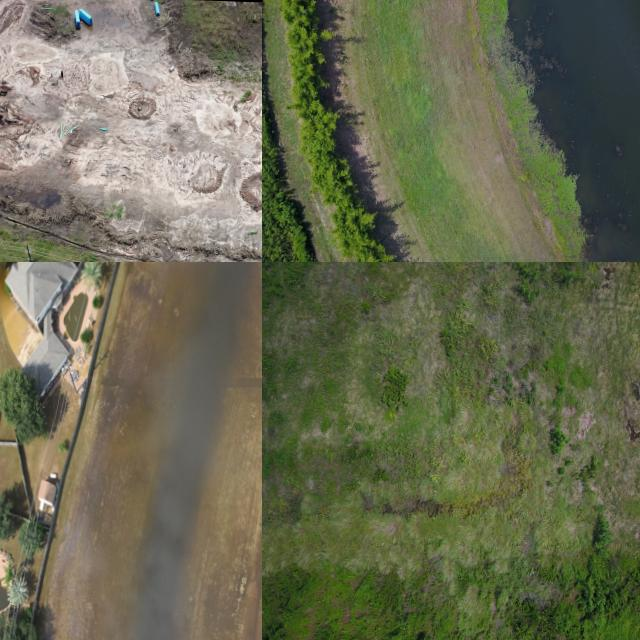fire: (45, 262, 262, 640), (508, 0, 640, 262)
